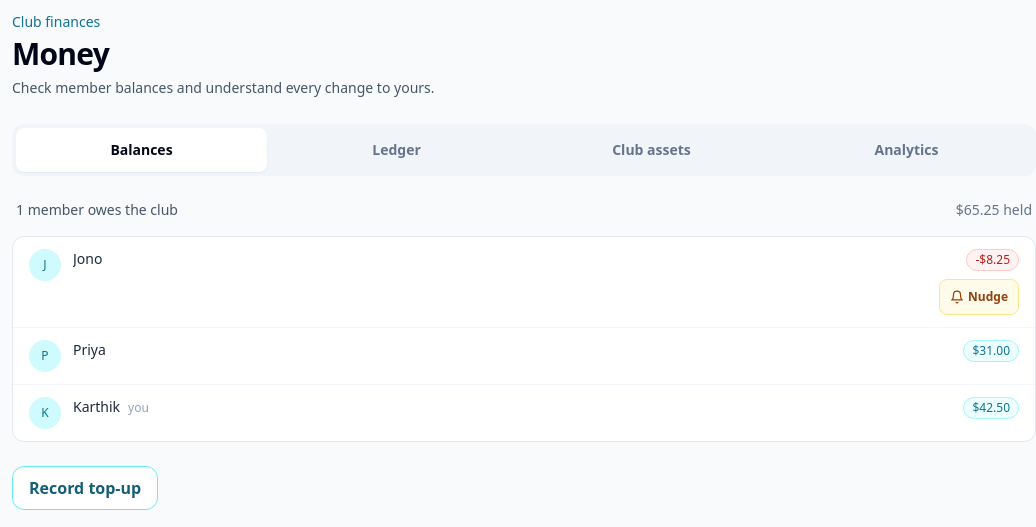
Test case: Money › lets an admin nudge a low-balance member once
Click the button with aria-label "Nudge Jono to top up": click(979, 297) [939,279,1019,315]
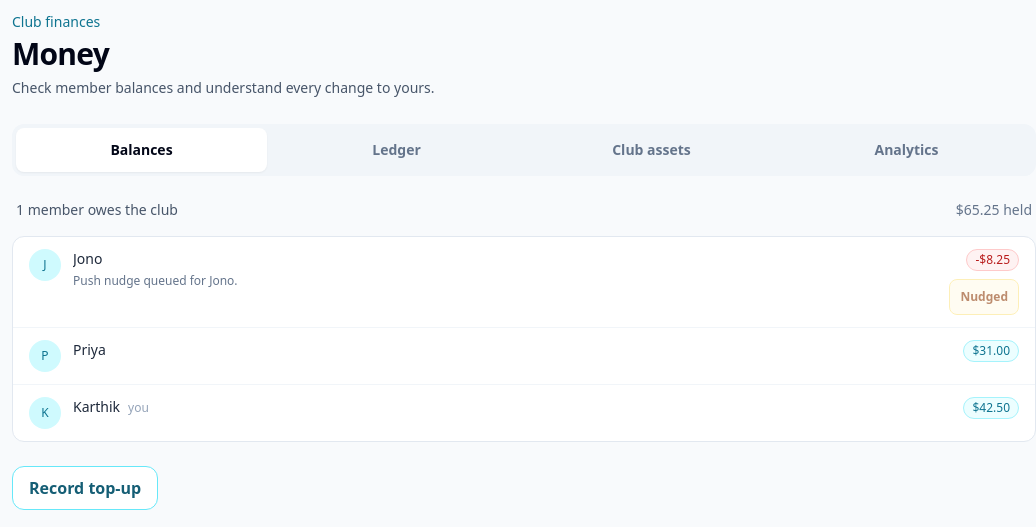
Check: the text "Push nudge queued for Jono." is shown, box [73,272,238,289]
Check: the button with aria-label "Nudge Jono to top up" is disabled, box [950,279,1019,315]
